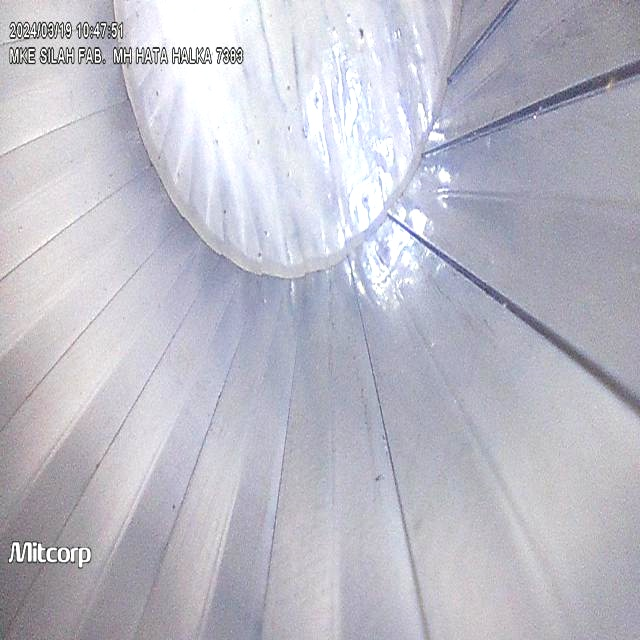hata_4.1: (335, 312, 427, 549)
